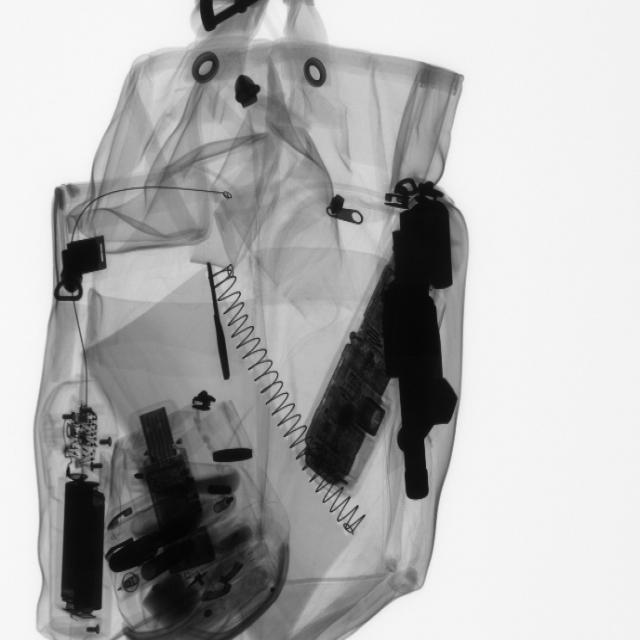GUN: (380, 181, 464, 516)
